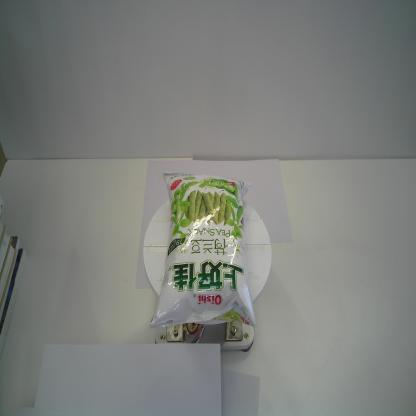Puffed Food: (147, 171, 257, 331)
